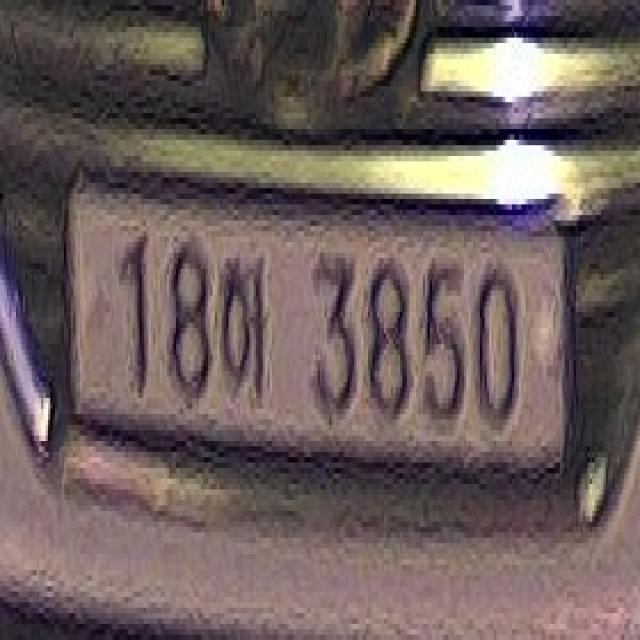0: (473, 253, 526, 441)
1: (114, 220, 158, 408)
3: (308, 242, 359, 425)
5: (416, 248, 466, 430)
8: (162, 226, 215, 414), (363, 248, 414, 436)
heo: (215, 242, 270, 414)
license_plate: (64, 156, 576, 506)
